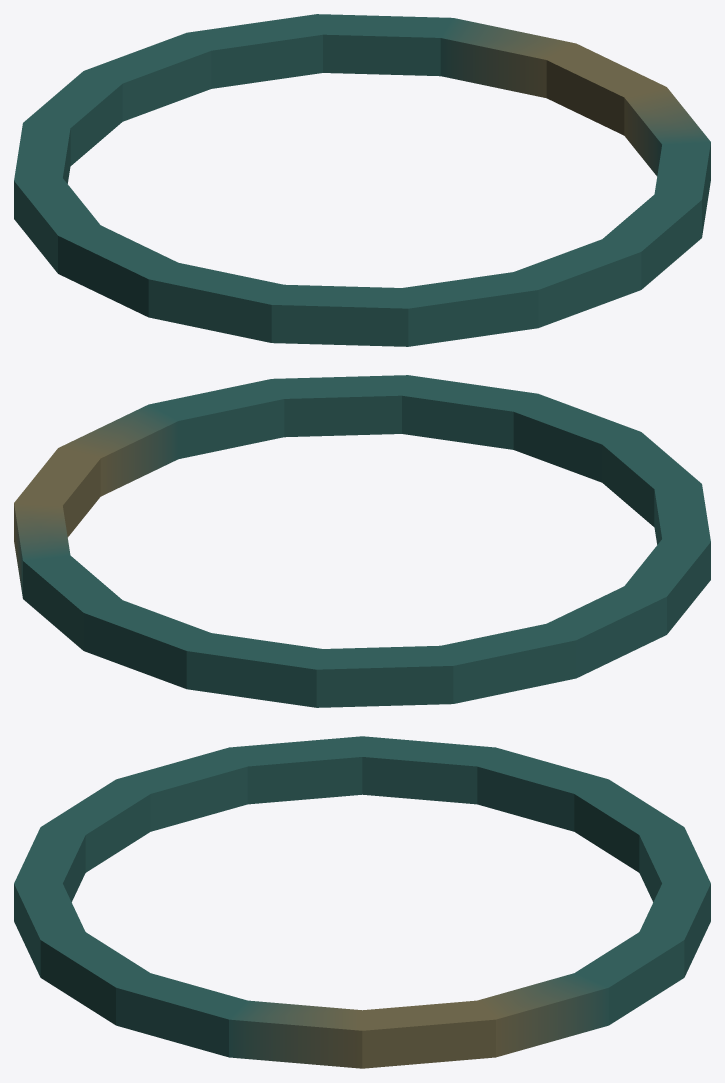
Rendered from time-ring.glb.
3 views of the same model, one above another, from view 1: azimuth 30°, elevation 25°; view 2: azimuth 150°, elevation 25°; view 3: azimuth 270°, elevation 25° (orthographic).
Parts seen in each view (by area): view 1: time_ring; view 2: time_ring; view 3: time_ring.
Part boxes in pixels (x1=…): time_ring: x1=14, y1=14, x2=710, y2=346; time_ring: x1=14, y1=375, x2=710, y2=707; time_ring: x1=14, y1=736, x2=710, y2=1068.
Bounding box in the file's own units: 2 × 0.12 × 2.
